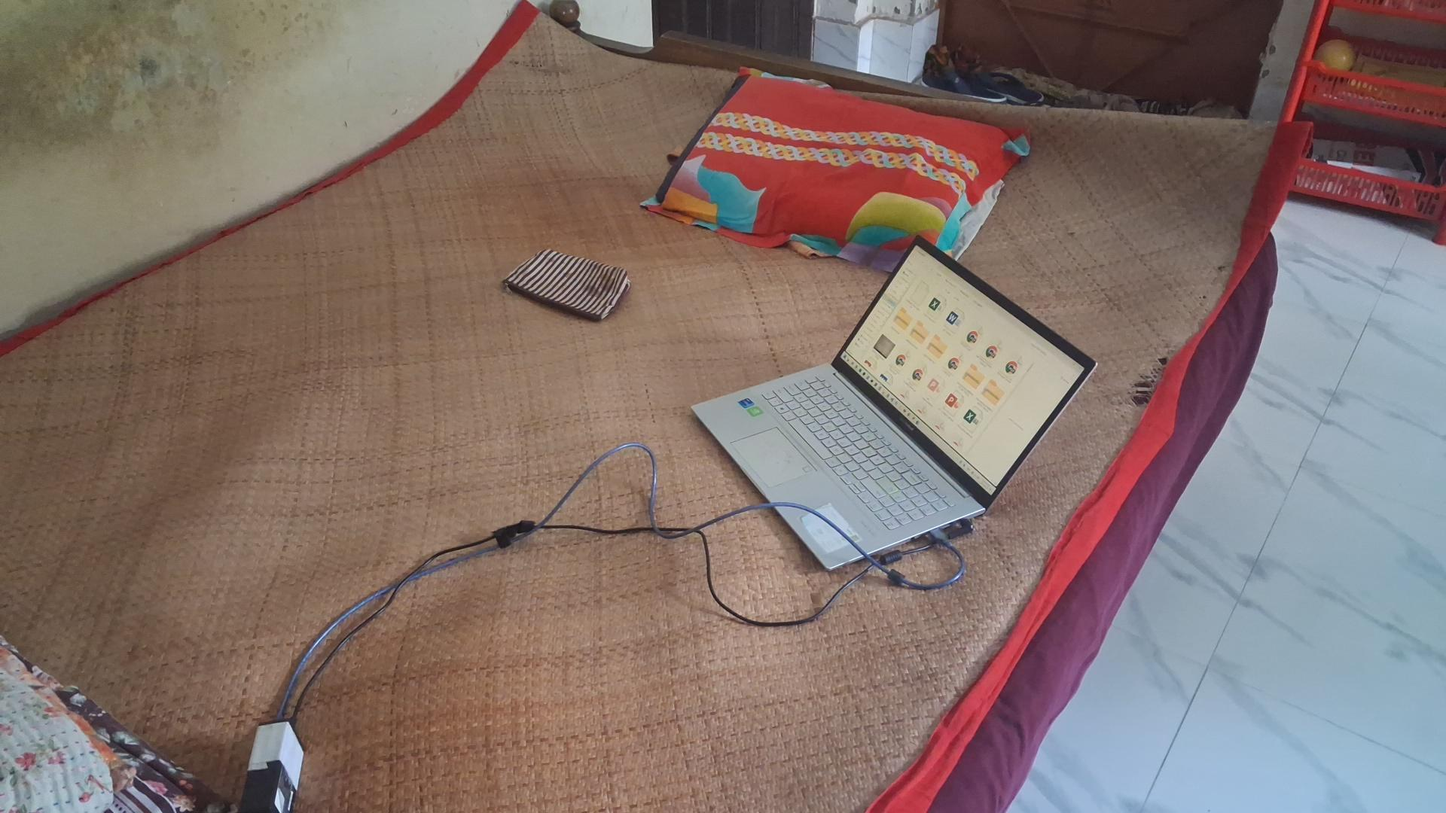Laptop: (690, 235, 1098, 572)
Moneybag: (507, 241, 634, 327)
Pillow: (647, 59, 1030, 253)
